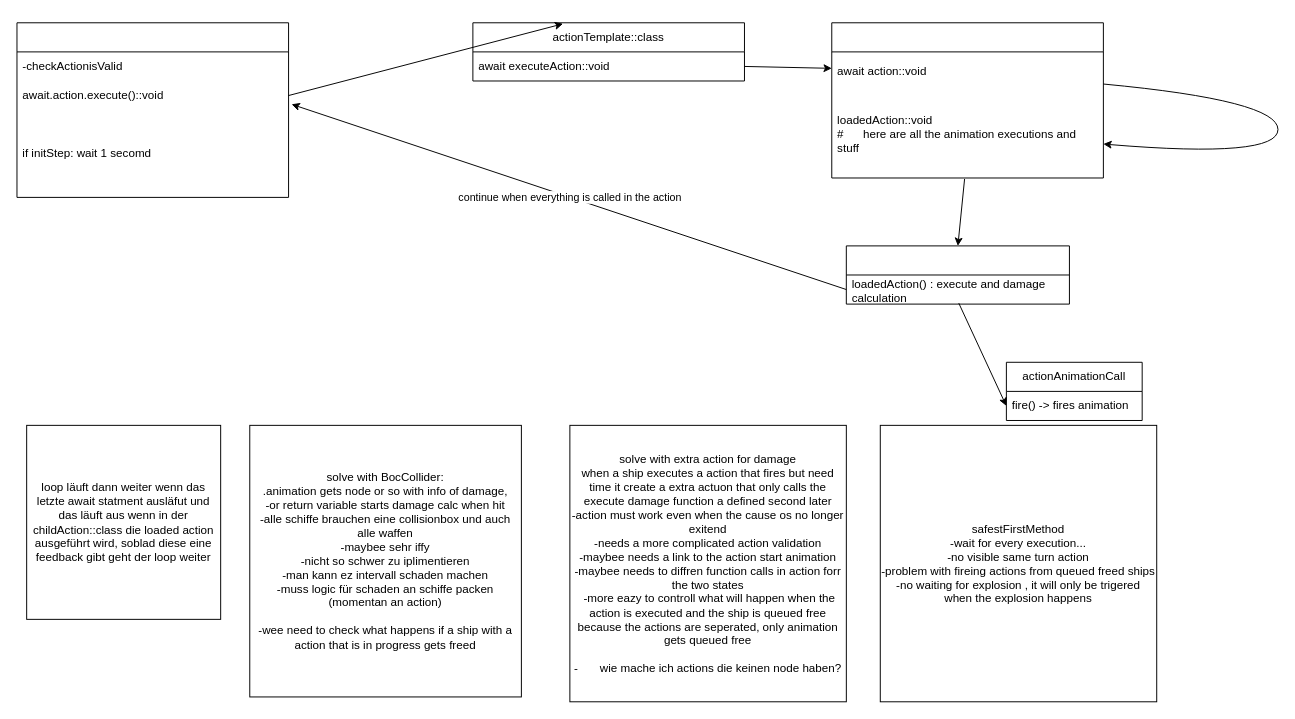
The diagram is 1295 pixels wide and 719 high, and some of its shapes have lost their labels. The shapes that lost their labels are listed below. From the top down, each one's box as (x1, y1, x2, y2) in pixels, then its label:
(16, 22, 289, 197): ActionState::class
(831, 22, 1103, 178): baseAction::class
(845, 245, 1069, 304): action::child
